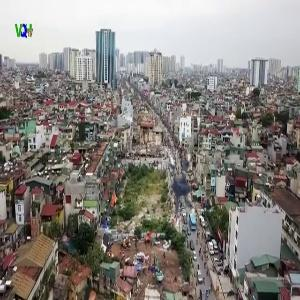drone: (134, 147, 213, 226)
